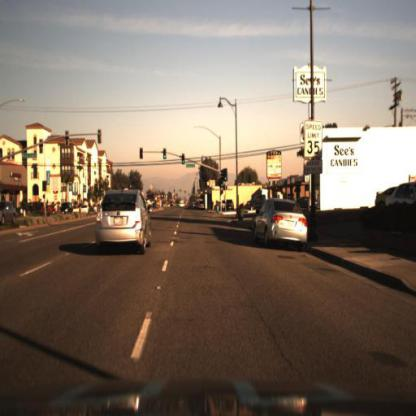car: (92, 184, 155, 260), (252, 194, 312, 255), (56, 199, 78, 220), (38, 203, 58, 219), (46, 198, 61, 218), (60, 200, 76, 218)
trafficLight-Green: (224, 167, 232, 185), (163, 147, 169, 165), (162, 151, 169, 164), (180, 156, 186, 168), (182, 154, 187, 167), (220, 181, 225, 193), (224, 175, 229, 185)
